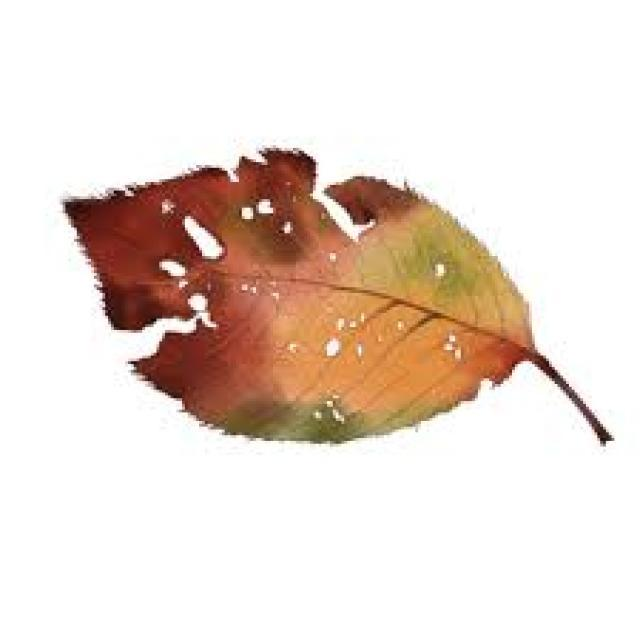leaf: (61, 145, 613, 447)
